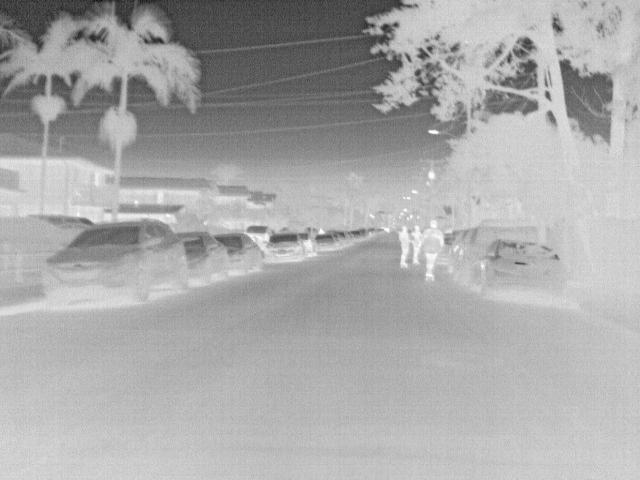car: (43, 219, 190, 310), (479, 240, 565, 298), (465, 225, 543, 286), (176, 229, 228, 286), (213, 229, 265, 276), (262, 234, 307, 264), (243, 223, 273, 245), (309, 234, 338, 253), (329, 230, 350, 246), (347, 229, 362, 242)
person: (419, 220, 445, 276), (409, 223, 423, 269), (397, 224, 411, 266)
